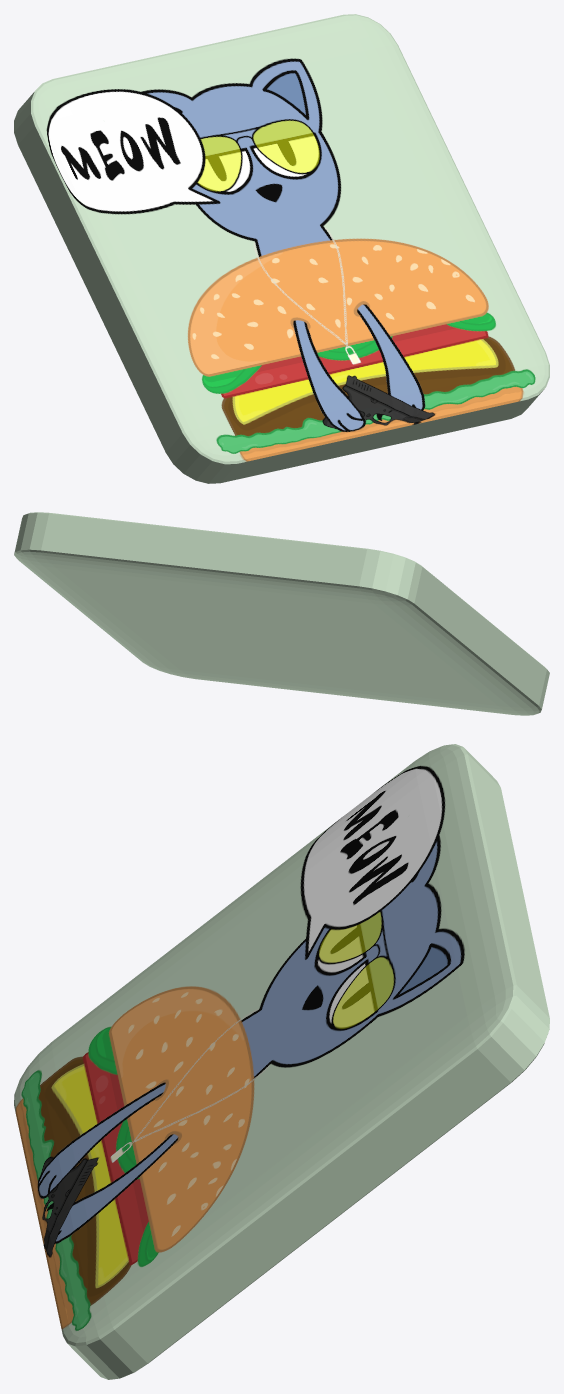
File: NM_gen1.glb
3 views of the same model, one above another, from view 1: azimuth 30°, elevation 25°; view 2: azimuth 150°, elevation 25°; view 3: azimuth 270°, elevation 25° (orthographic). The views are drawn at different scales.
Visible parts, largest first — view 1: OG1.003; view 2: OG1.003; view 3: OG1.003.
Part boxes in pixels (x1,y1,x2,y2): OG1.003: (14, 14, 549, 483); OG1.003: (14, 512, 549, 715); OG1.003: (14, 744, 549, 1379).
Bounding box in the file's own units: 0.4998 × 0.374 × 0.4408.
1 material, 1 textured.
